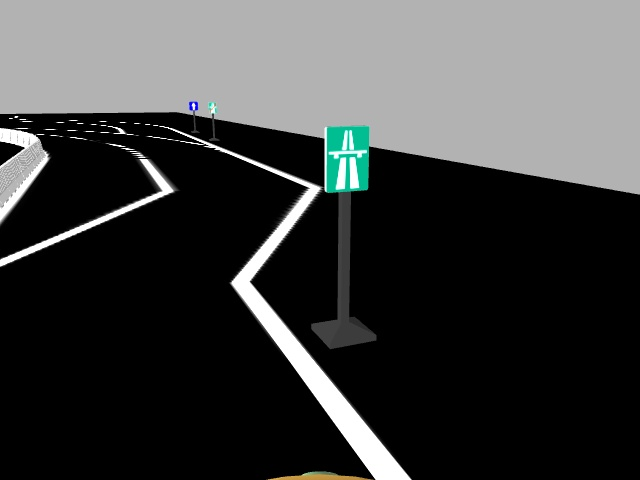HighwayEntrance: (322, 124, 367, 187)
